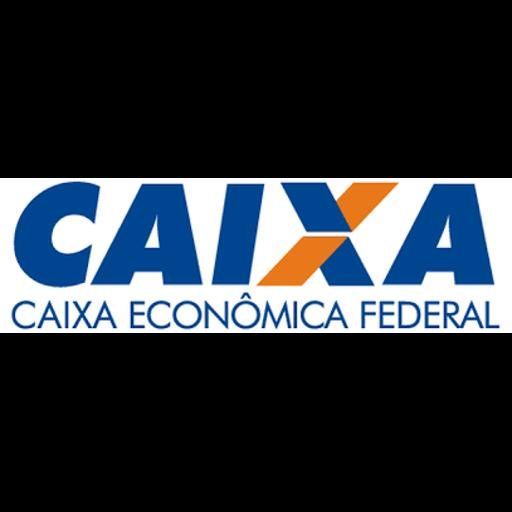Caixa Economica Federal: (0, 178, 512, 333)
